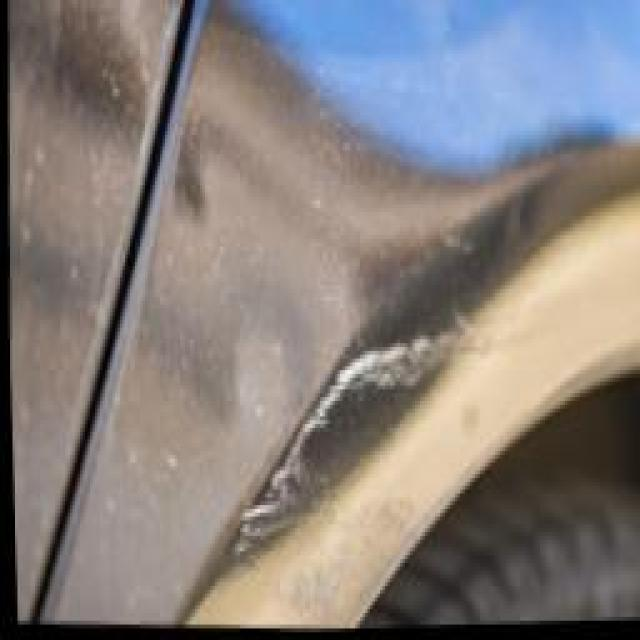Fender: (120, 212, 489, 603)
